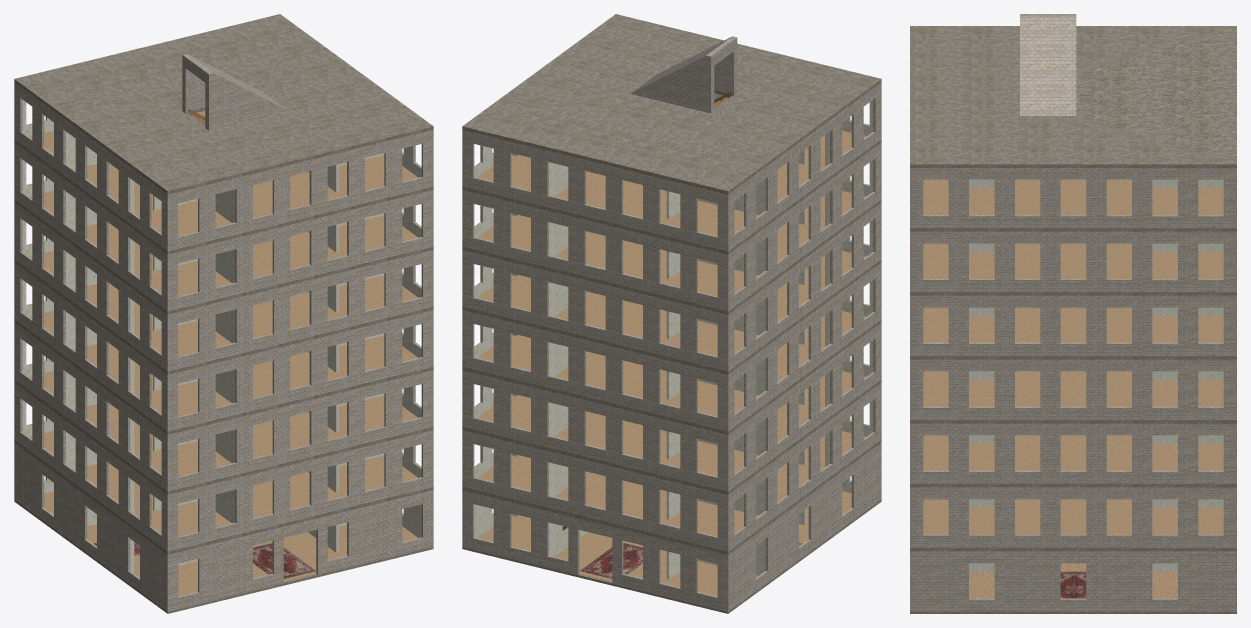
File: Flat.fbx
3 views of the same model, side by side, from view 1: azimuth 30°, elevation 25°; view 2: azimuth 150°, elevation 25°; view 3: azimuth 270°, elevation 25° (orthographic). The views are drawn at different scales.
Visible parts, largest first — view 1: flat; view 2: flat; view 3: flat.
Boxes of the visible parts, x1,y1,x2,y2 form: flat: (14, 14, 433, 613); flat: (462, 14, 881, 613); flat: (910, 14, 1236, 613).
Bounding box in the file's own units: 10.92 × 18.81 × 10.92.
